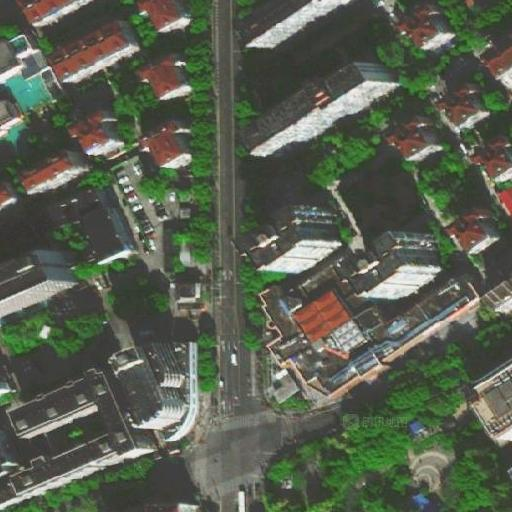building: (290, 275, 466, 400), (2, 413, 153, 506), (0, 354, 124, 465), (250, 60, 396, 154), (109, 339, 192, 435), (351, 226, 446, 305), (54, 25, 143, 89), (65, 182, 134, 263), (0, 248, 83, 314), (265, 210, 342, 274), (294, 286, 355, 347), (466, 361, 511, 440), (23, 148, 92, 196), (75, 107, 129, 156), (402, 1, 457, 48), (449, 207, 499, 255), (141, 56, 192, 102), (148, 119, 195, 168), (4, 29, 50, 77), (446, 87, 493, 127), (0, 221, 46, 261), (399, 125, 446, 164), (477, 275, 511, 316), (481, 142, 512, 184), (166, 178, 199, 216), (164, 222, 194, 261), (114, 498, 198, 511), (174, 275, 206, 301), (0, 177, 24, 208), (410, 488, 437, 511), (0, 362, 18, 394), (397, 405, 423, 427)
